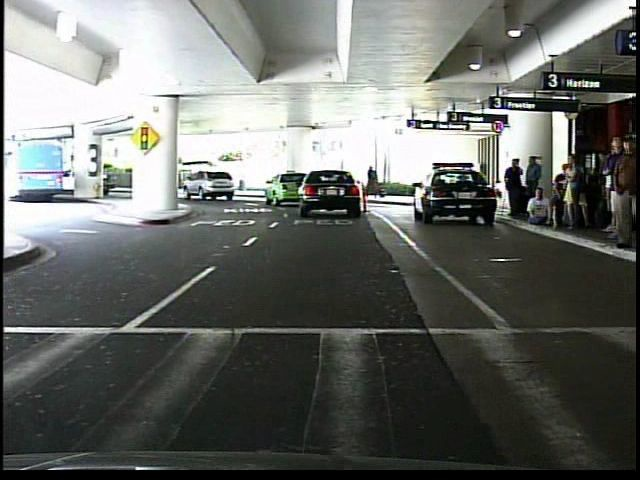person: (503, 155, 526, 220), (522, 153, 544, 219), (366, 163, 381, 202)
